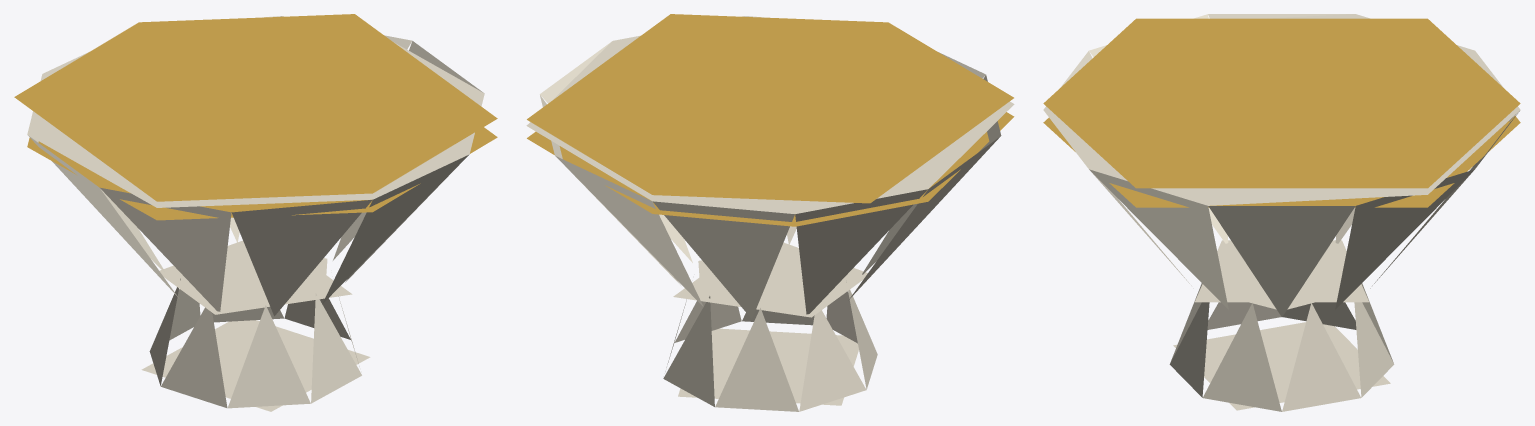
Rendered from prop_gut_cup_lod1.glb.
3 renders of one model, left to right at view 1: azimuth 30°, elevation 25°; view 2: azimuth 150°, elevation 25°; view 3: azimuth 270°, elevation 25°, orthographic. The views are drawn at different scales.
Parts seen in each view (by area): view 1: prop_gut_cup_lod1; view 2: prop_gut_cup_lod1; view 3: prop_gut_cup_lod1.
Boxes of the visible parts, box(x1,y1,x2,y2) form: prop_gut_cup_lod1: box(14, 14, 497, 411); prop_gut_cup_lod1: box(526, 14, 1014, 411); prop_gut_cup_lod1: box(1043, 14, 1520, 411).
Size of the model in its own units: 0.3234 by 0.205 by 0.34.
